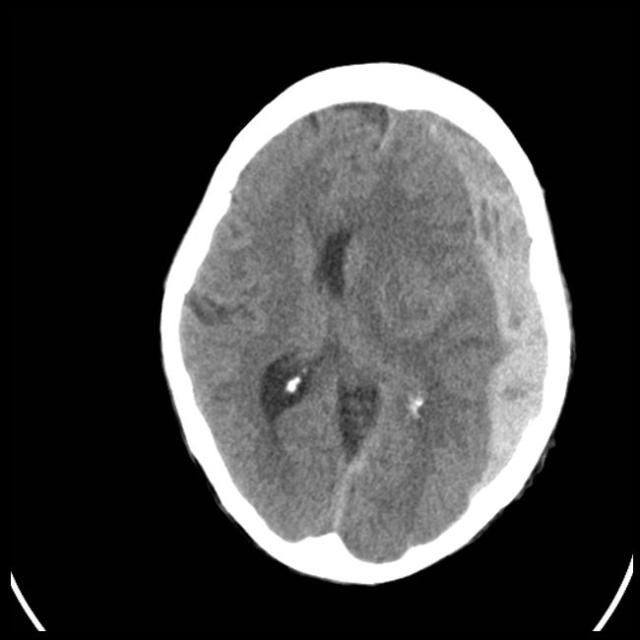lesion: (159, 68, 573, 584)
